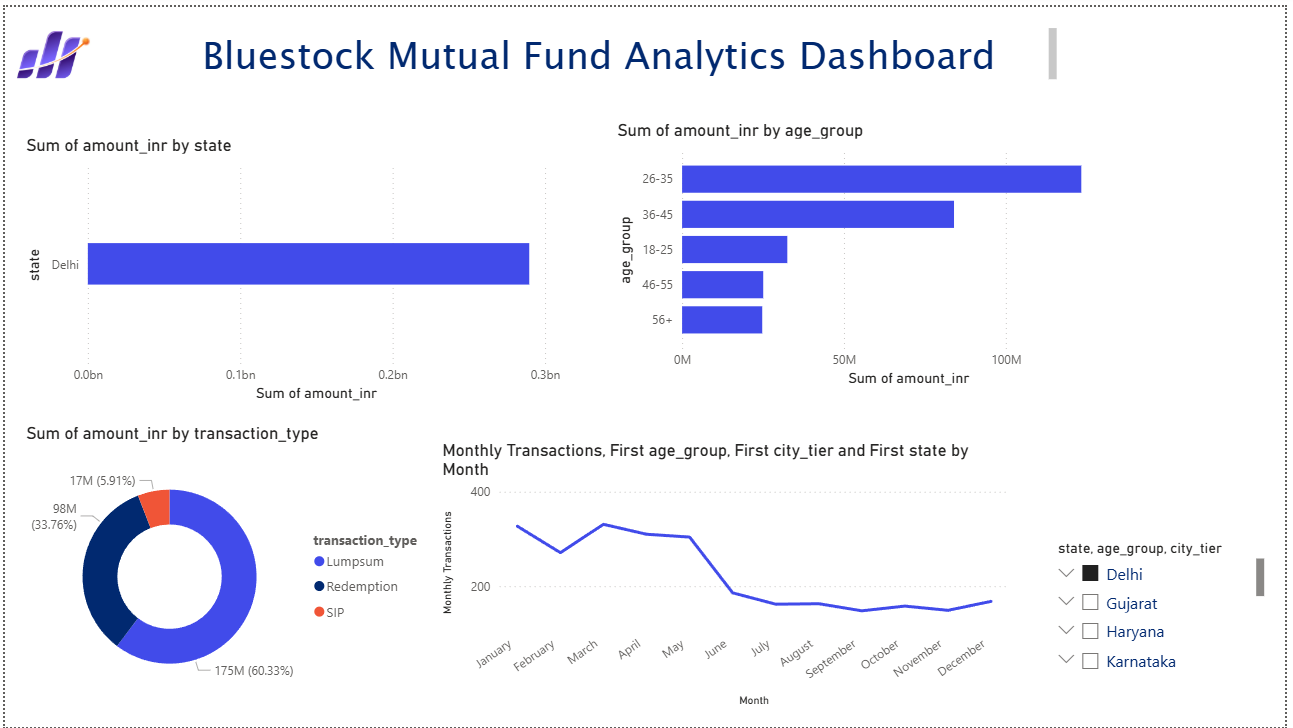

The page's visual inventory and layout, read from the dashboard file:
{"tool":"powerbi","page":{"name":"Investor Analytics","canvas":[1280,720],"ordinal":2},"visuals":[{"type":"barChart","fields":{"Category":["08_investor_transactions.state"],"Y":["Sum(08_investor_transactions.amount_inr)"]},"box":[16,128,544,272],"z":0},{"type":"donutChart","fields":{"Category":["08_investor_transactions.transaction_type"],"Y":["Sum(08_investor_transactions.amount_inr)"]},"box":[16,416,416,288],"z":1000},{"type":"barChart","fields":{"Category":["08_investor_transactions.age_group"],"Y":["Sum(08_investor_transactions.amount_inr)"]},"box":[608,112,544,272],"z":2000},{"type":"lineChart","fields":{"Category":["08_investor_transactions.transaction_date.Variation.Date Hierarchy.Month"],"Y":["08_investor_transactions.Monthly Transactions"]},"box":[432,432,576,272],"z":3000},{"type":"slicer","fields":{"Values":["08_investor_transactions.state","08_investor_transactions.age_group","08_investor_transactions.city_tier"]},"box":[1040,528,224,144],"z":4000},{"type":"image","box":[0,0,96,96],"z":4001},{"type":"textbox","box":[192,16,864,64],"z":4002}]}

Visuals, with their boxes in screenshot pixels (x1, y1, x2, y2), scaled from the page's 1280x720 canvas onto the 1293x728 screenshot:
barChart - 08_investor_transactions.state x Sum(08_investor_transactions.amount_inr): rect(16, 129, 566, 404)
donutChart - 08_investor_transactions.transaction_type x Sum(08_investor_transactions.amount_inr): rect(16, 421, 436, 712)
barChart - 08_investor_transactions.age_group x Sum(08_investor_transactions.amount_inr): rect(614, 113, 1164, 388)
lineChart - 08_investor_transactions.transaction_date.Variation.Date Hierarchy.Month x 08_investor_transactions.Monthly Transactions: rect(436, 437, 1018, 712)
slicer - 08_investor_transactions.state x 08_investor_transactions.age_group: rect(1051, 534, 1277, 679)
image: rect(0, 0, 97, 97)
textbox: rect(194, 16, 1067, 81)
